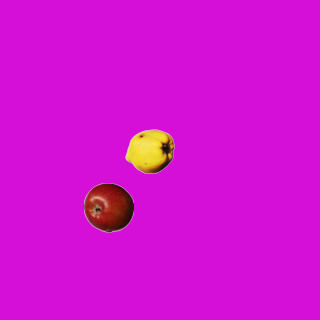Apple Braeburn: (83, 182, 133, 232)
Quince: (124, 126, 174, 176)
